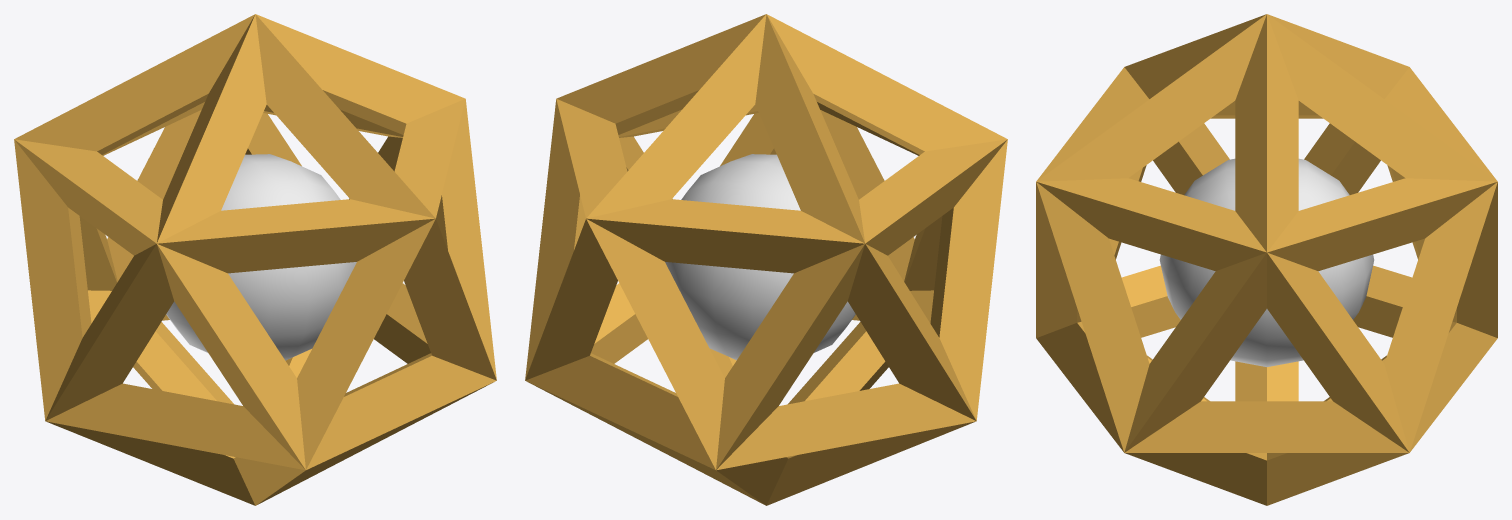
Rendered from TrueLight.fbx.
3 views of the same model, side by side, from view 1: azimuth 30°, elevation 25°; view 2: azimuth 150°, elevation 25°; view 3: azimuth 270°, elevation 25° (orthographic).
Parts seen in each view (by area): view 1: Icosphere.002; view 2: Icosphere.002; view 3: Icosphere.002.
Part boxes in pixels (x1,y1,x2,y2): Icosphere.002: [14, 14, 496, 505]; Icosphere.002: [525, 14, 1007, 505]; Icosphere.002: [1036, 14, 1497, 505].
Size of the model in its own units: 204 by 229 by 194.
